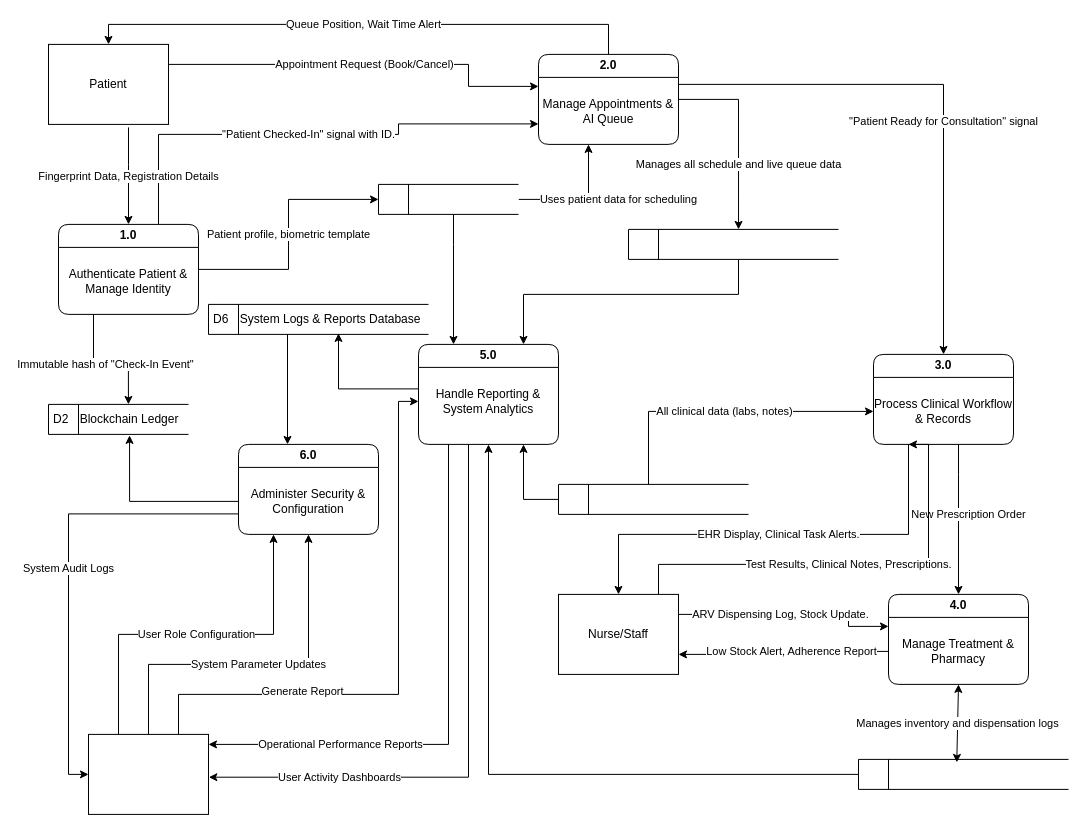
This 1086x832 diagram has some shape labels left out. The shapes that lost their labels are listed below. From the top down, each one's box as (x1, y1, x2, y2) in pixels, then its label:
(378, 183, 518, 214): D1 Patient Database
(628, 228, 838, 259): D3 Appointment & Queue Database
(558, 483, 748, 514): D4 Clinical Records Database
(88, 733, 208, 814): Admin
(858, 758, 1068, 789): D5 Pharmacy & Inventory Database
